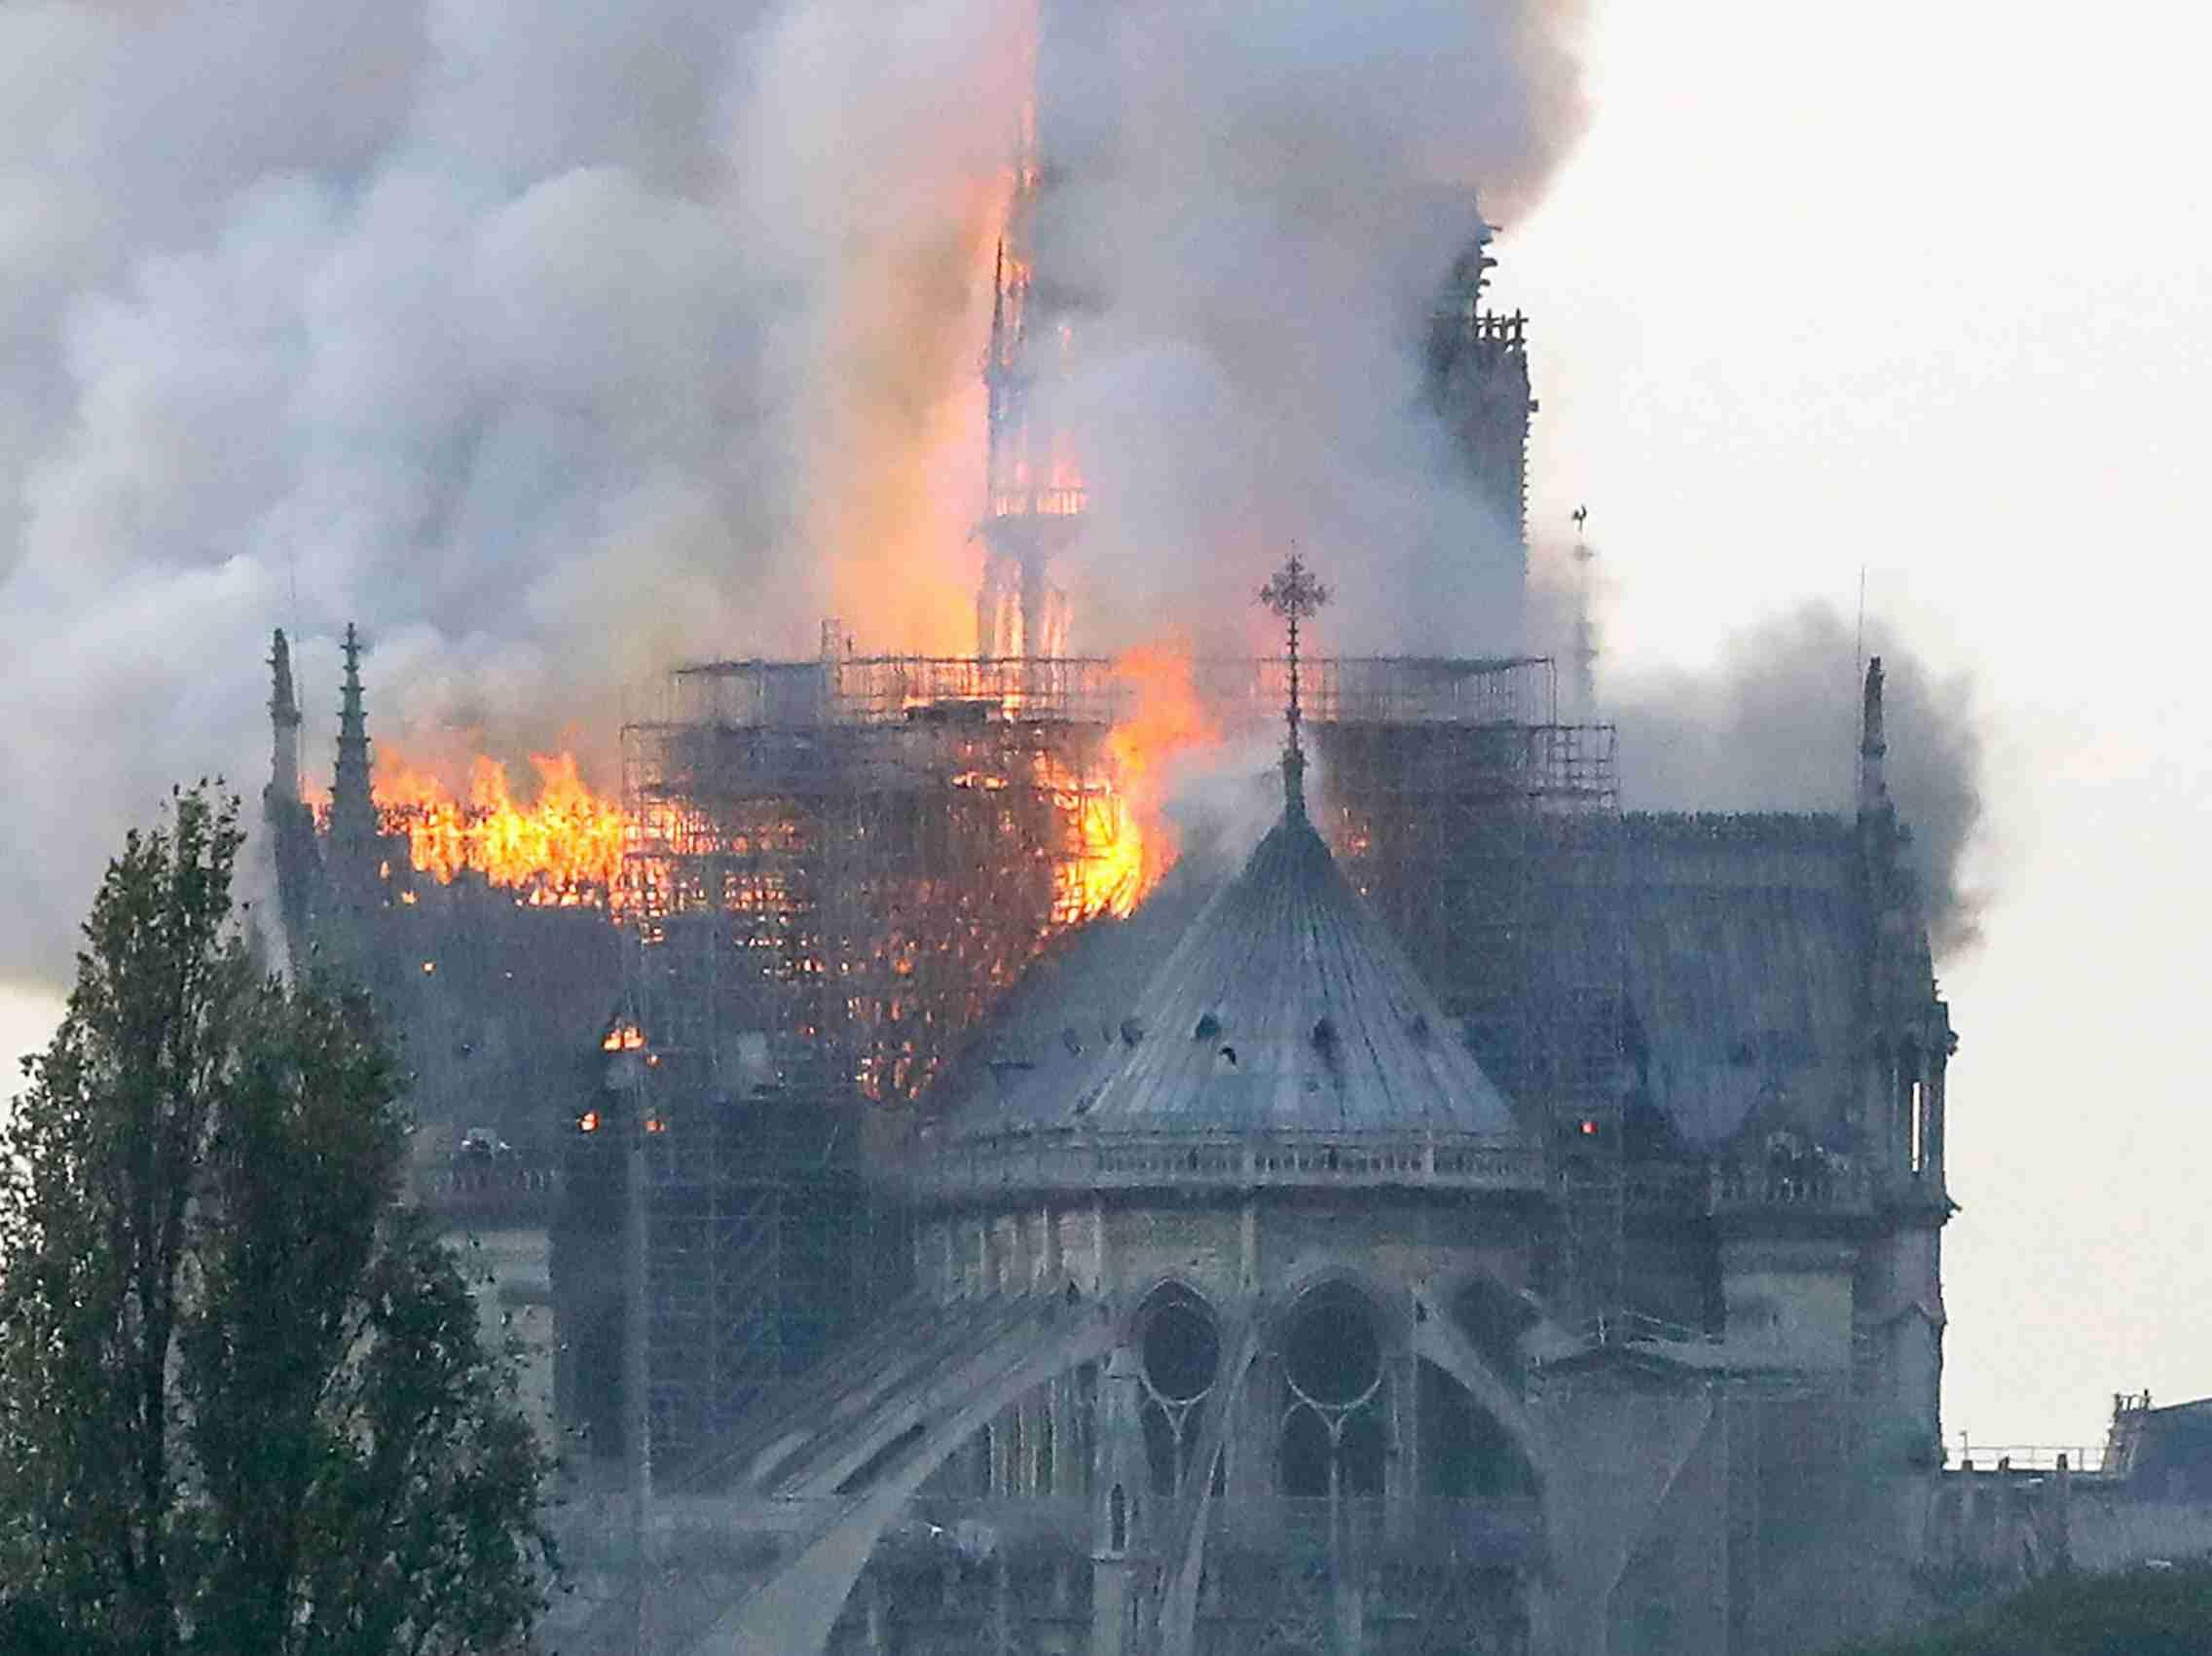Fire: (939, 125, 1155, 593), (323, 684, 647, 953), (1064, 642, 1275, 965)
